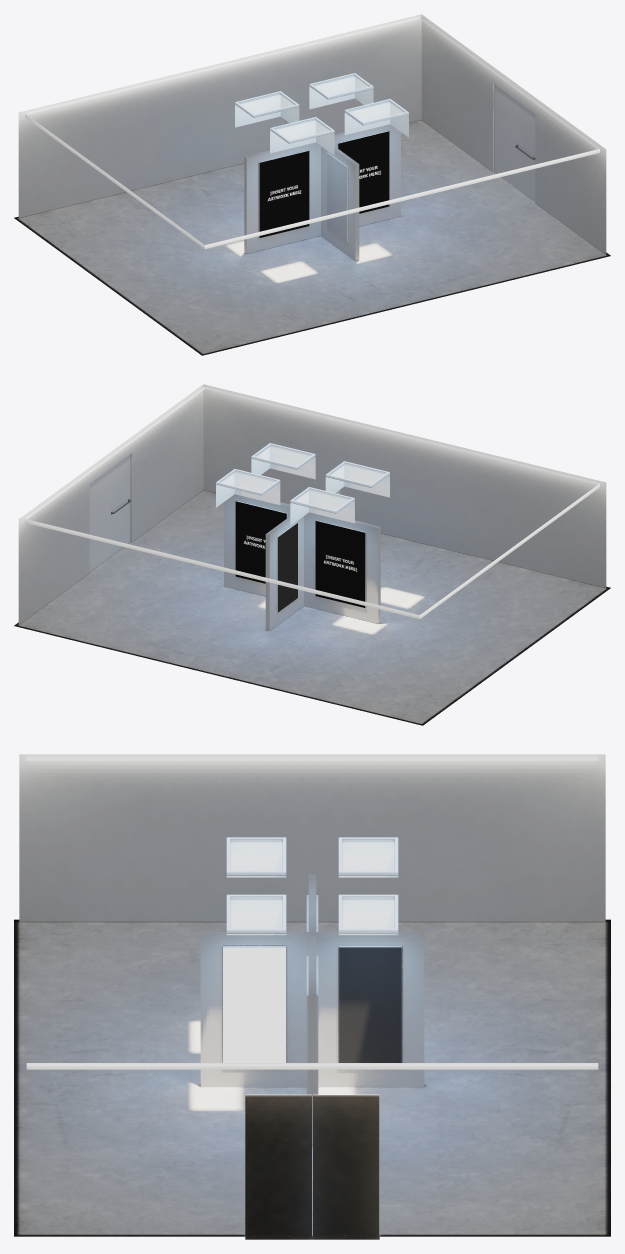
The picture shows the model from 3 angles, top to bottom: view 1: azimuth 30°, elevation 25°; view 2: azimuth 150°, elevation 25°; view 3: azimuth 270°, elevation 25°; orthographic projection. The views are drawn at different scales.
Parts seen in each view (by area): view 1: Art; view 2: Art; view 3: Art.
Boxes of the visible parts, bbox=[...] form: Art: bbox=[14, 14, 610, 355]; Art: bbox=[14, 384, 610, 725]; Art: bbox=[14, 754, 610, 1239].
Size of the model in its own units: 399 by 118 by 315.
15 materials, 10 textured.
